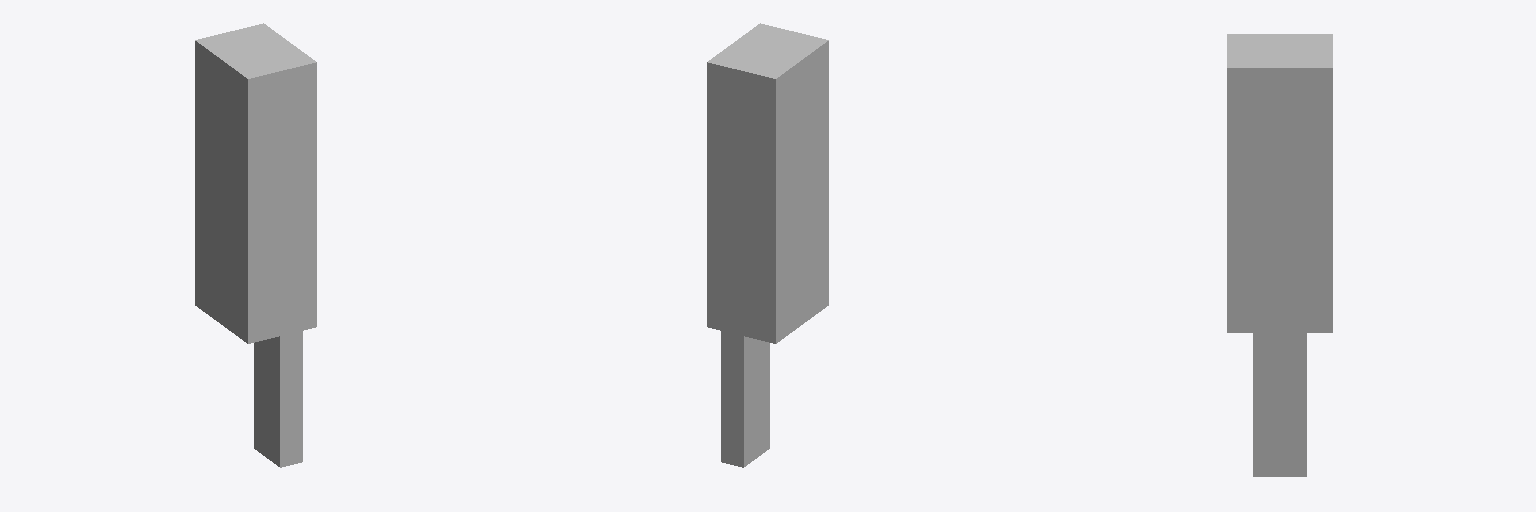
Rendered from left_e_link.obj.
The picture shows the model from 3 angles: view 1: azimuth 30°, elevation 25°; view 2: azimuth 150°, elevation 25°; view 3: azimuth 270°, elevation 25°; orthographic projection.
Parts seen in each view (by area): view 1: cube.001; view 2: cube.001; view 3: cube.001.
Part boxes in pixels (bbox=[...]): cube.001: bbox=[195, 23, 316, 467]; cube.001: bbox=[707, 23, 828, 467]; cube.001: bbox=[1227, 34, 1332, 476].
Bounding box in the file's own units: 0.1875 × 1.06 × 0.25.